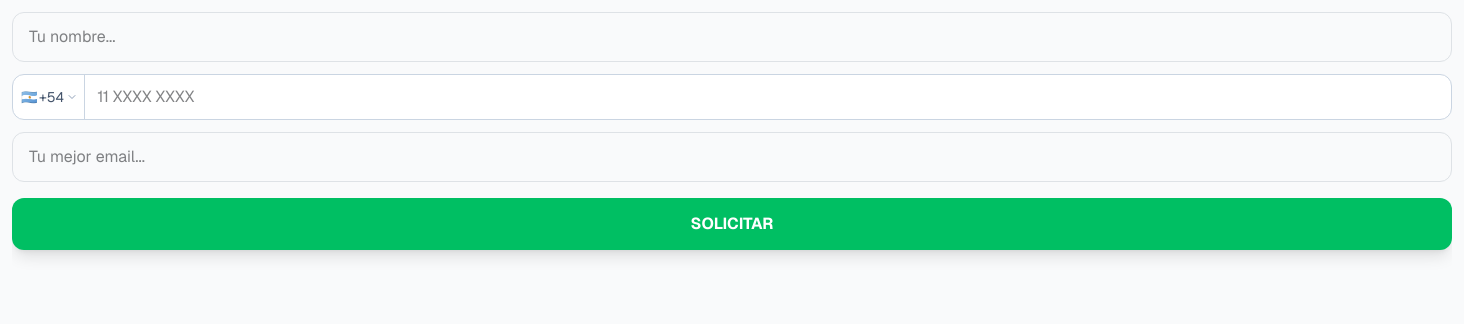
Scenario: FunnelLeadForm dentro del visor del mapa de calor (?hm_preview=1) › con datos perfectos NO envía, y explica por qué
In the field labelled "nombre": (732, 37) [12, 12, 1452, 62], type "Juan Pérez"
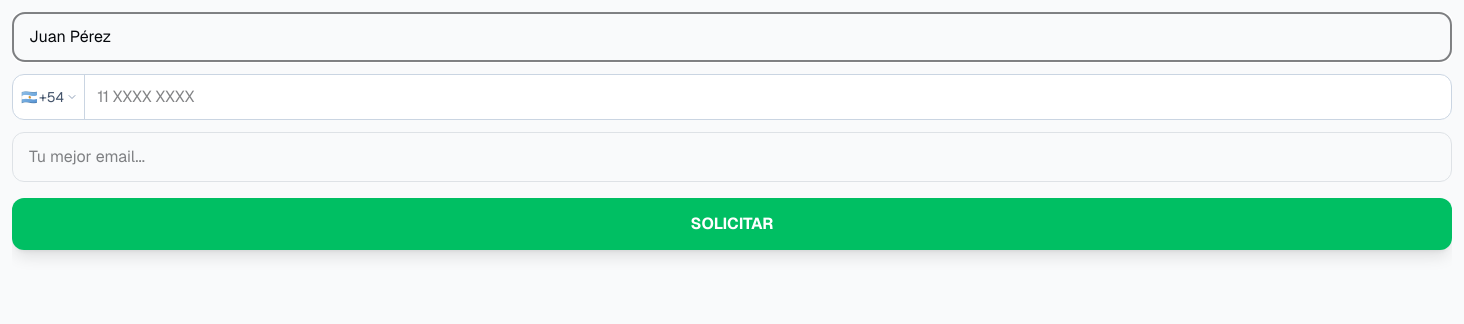
In the field with placeholder "11 XXXX XXXX": (768, 97) [85, 75, 1451, 119], type "1133224455"
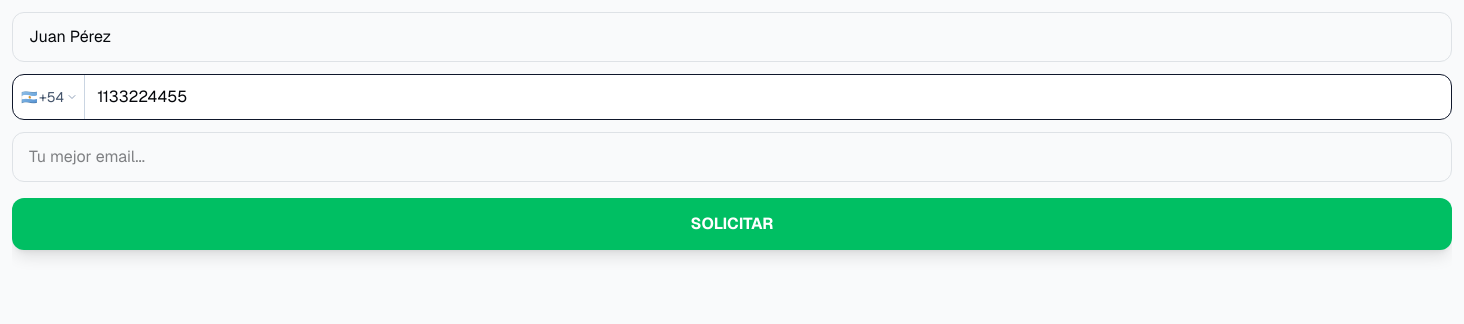
In the field labelled "email": (732, 157) [12, 132, 1452, 182], type "juan@mail.com"
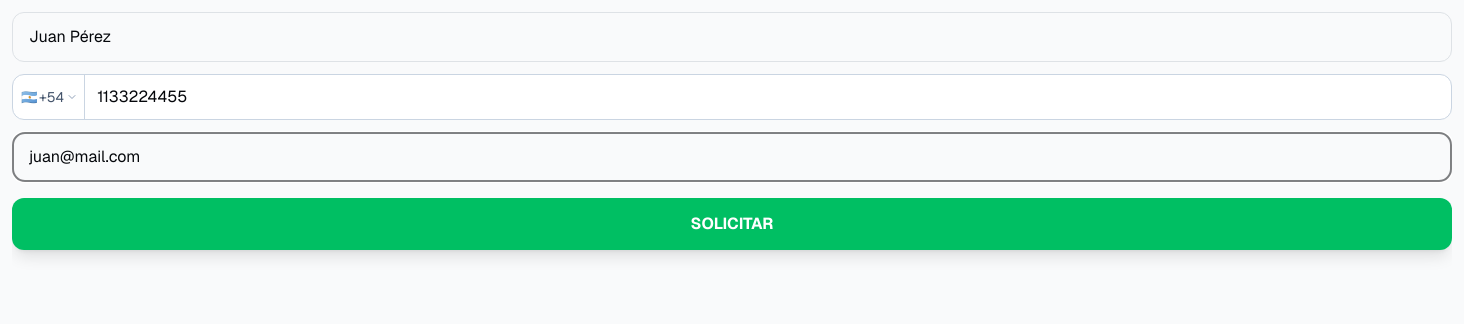
Click the button "SOLICITAR": click(732, 224) [12, 198, 1452, 250]
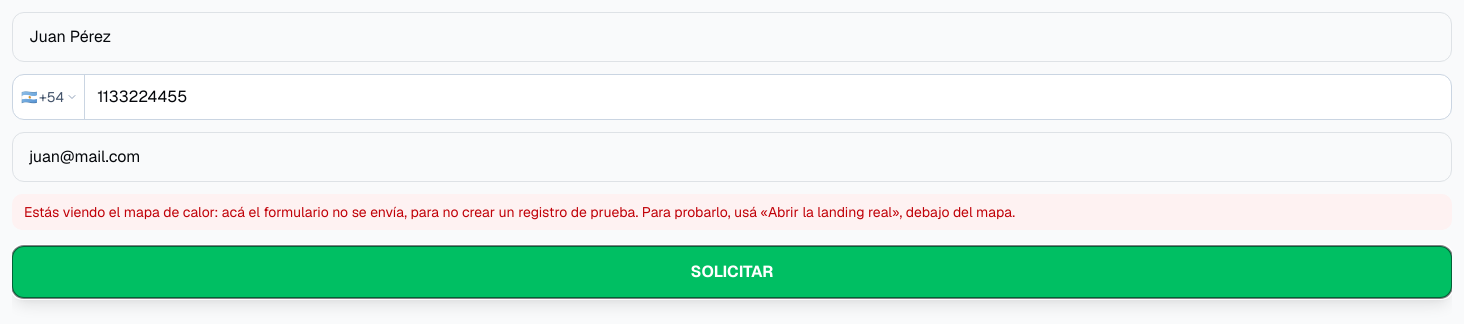
Now the message shows "mapa de calor", box [24, 203, 1015, 221]
Now the message shows "no se envía", box [24, 203, 1015, 221]
Now the message shows "Abrir la landing real", box [24, 203, 1015, 221]
